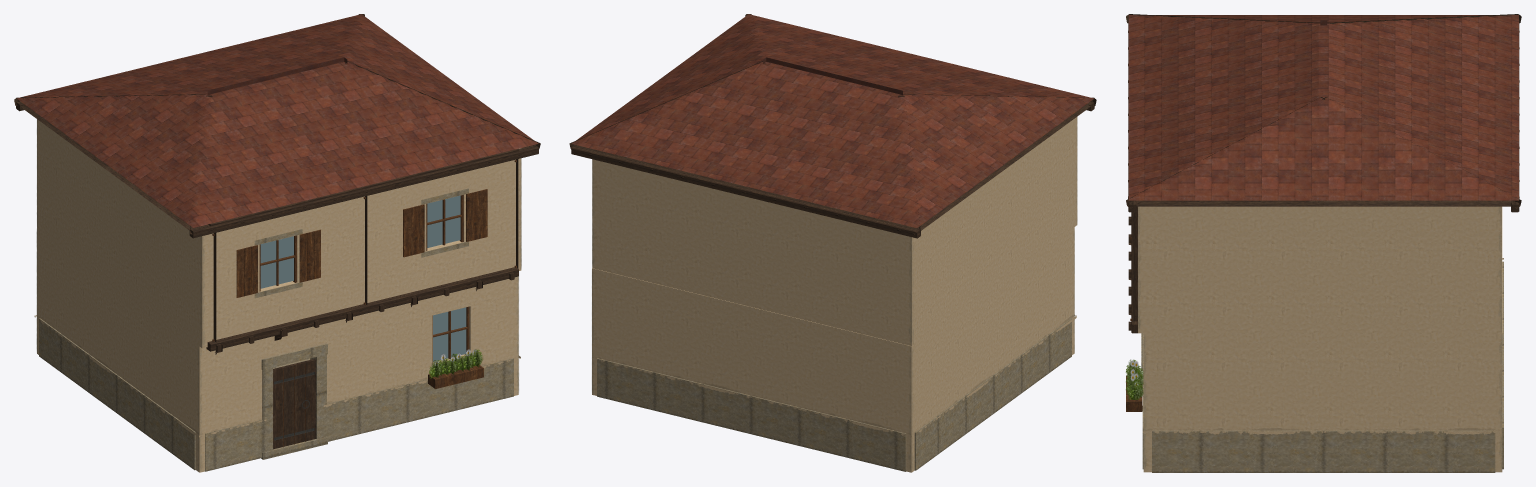
Rendered from B10_vivienda.gltf.
3 views of the same model, side by side, from view 1: azimuth 30°, elevation 25°; view 2: azimuth 150°, elevation 25°; view 3: azimuth 270°, elevation 25° (orthographic). The views are drawn at different scales.
Visible parts, largest first — view 1: AUR034_B10_clay_tiles, AUR034_B10_upper_plaster, AUR034_B10_lower_masonry, B10_runtime_static_051, B10_runtime_static_000, B10_runtime_static_083, AUR034_B10_entry_leaf0, B10_runtime_static_062, AUR034_B10_window2_shutter1, AUR034_B10_window2_shutter-1, AUR034_B10_window1_shutter1, AUR034_B10_window1_shutter-1 (+3 smaller); view 2: AUR034_B10_clay_tiles, AUR034_B10_upper_plaster, AUR034_B10_lower_masonry, B10_runtime_static_051, B10_runtime_static_000, B10_plaster_stone_joint_wear, AUR034_B10_ridge; view 3: AUR034_B10_clay_tiles, AUR034_B10_upper_plaster, AUR034_B10_lower_masonry, B10_runtime_static_051, B10_runtime_static_000, B10_plaster_stone_joint_wear, B10_herbs_0.
Boxes of the visible parts, <box> form: AUR034_B10_clay_tiles: <box>16,14,538,227</box>; AUR034_B10_upper_plaster: <box>37,119,521,348</box>; AUR034_B10_lower_masonry: <box>37,228,518,472</box>; B10_runtime_static_051: <box>39,188,513,471</box>; B10_runtime_static_000: <box>14,14,540,354</box>; B10_runtime_static_083: <box>260,195,466,361</box>; AUR034_B10_entry_leaf0: <box>273,359,315,449</box>; B10_runtime_static_062: <box>212,160,516,447</box>; AUR034_B10_window2_shutter1: <box>466,189,487,241</box>; AUR034_B10_window2_shutter-1: <box>403,204,424,257</box>; AUR034_B10_window1_shutter1: <box>299,229,320,282</box>; AUR034_B10_window1_shutter-1: <box>236,245,257,297</box>; AUR034_B10_clay_tiles: <box>572,14,1094,227</box>; AUR034_B10_upper_plaster: <box>592,117,1077,345</box>; AUR034_B10_lower_masonry: <box>592,227,1074,472</box>; B10_runtime_static_051: <box>597,318,1071,471</box>; B10_runtime_static_000: <box>569,14,1096,238</box>; B10_plaster_stone_joint_wear: <box>592,315,1076,436</box>; AUR034_B10_ridge: <box>763,57,902,94</box>; AUR034_B10_clay_tiles: <box>1128,15,1518,200</box>; AUR034_B10_upper_plaster: <box>1138,206,1501,333</box>; AUR034_B10_lower_masonry: <box>1143,207,1502,472</box>; B10_runtime_static_051: <box>1141,261,1503,472</box>; B10_runtime_static_000: <box>1126,14,1521,410</box>; B10_plaster_stone_joint_wear: <box>1142,258,1503,434</box>; B10_herbs_0: <box>1125,359,1143,399</box>.
Size of the model in its own units: 9.1 by 7.45 by 8.08.
Materials: 13 (12 with a texture image).
